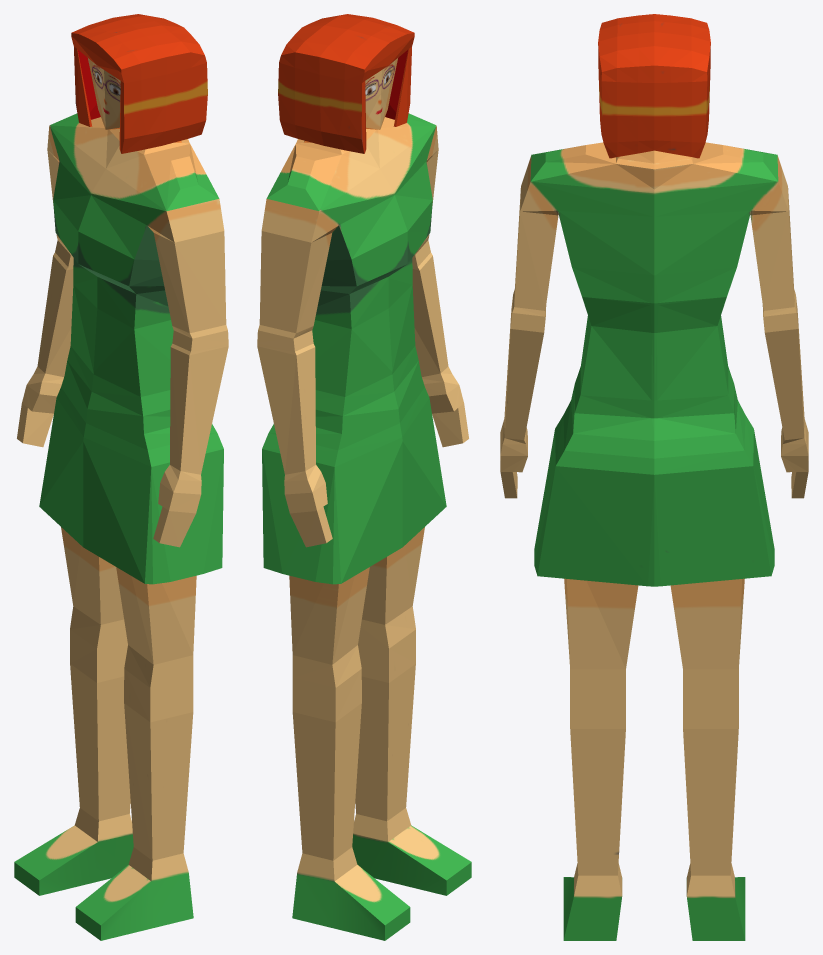
The model's file is nice_girl.FBX.
The picture shows the model from 3 angles, left to right: view 1: azimuth 30°, elevation 25°; view 2: azimuth 150°, elevation 25°; view 3: azimuth 270°, elevation 25°; orthographic projection. The views are drawn at different scales.
Visible parts, largest first — view 1: Box001; view 2: Box001; view 3: Box001.
Part boxes in pixels (box(x1,y1,x2,y2)): Box001: box(14, 14, 228, 940); Box001: box(257, 14, 471, 940); Box001: box(500, 14, 808, 940).
Size of the model in its own units: 26.74 by 161 by 49.86.
